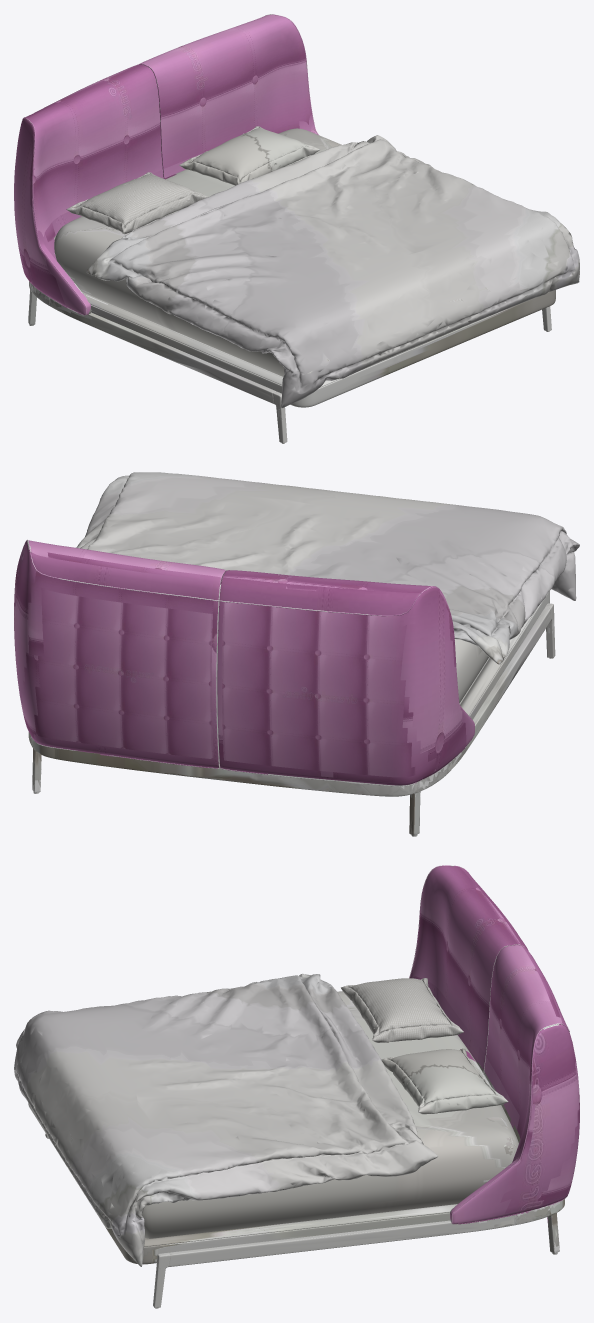
The model's file is bed4final.glb.
3 renders of one model, top to bottom at view 1: azimuth 30°, elevation 25°; view 2: azimuth 150°, elevation 25°; view 3: azimuth 270°, elevation 25°, orthographic. The views are drawn at different scales.
Parts seen in each view (by area): view 1: 11; view 2: 11; view 3: 11.
Boxes of the visible parts, x1,y1,x2,y2 form: 11: (14,14,579,443); 11: (14,472,579,836); 11: (14,865,579,1308).
Bounding box in the file's own units: 8.73 × 4.14 × 9.12.
Materials: 3 (2 with a texture image).
